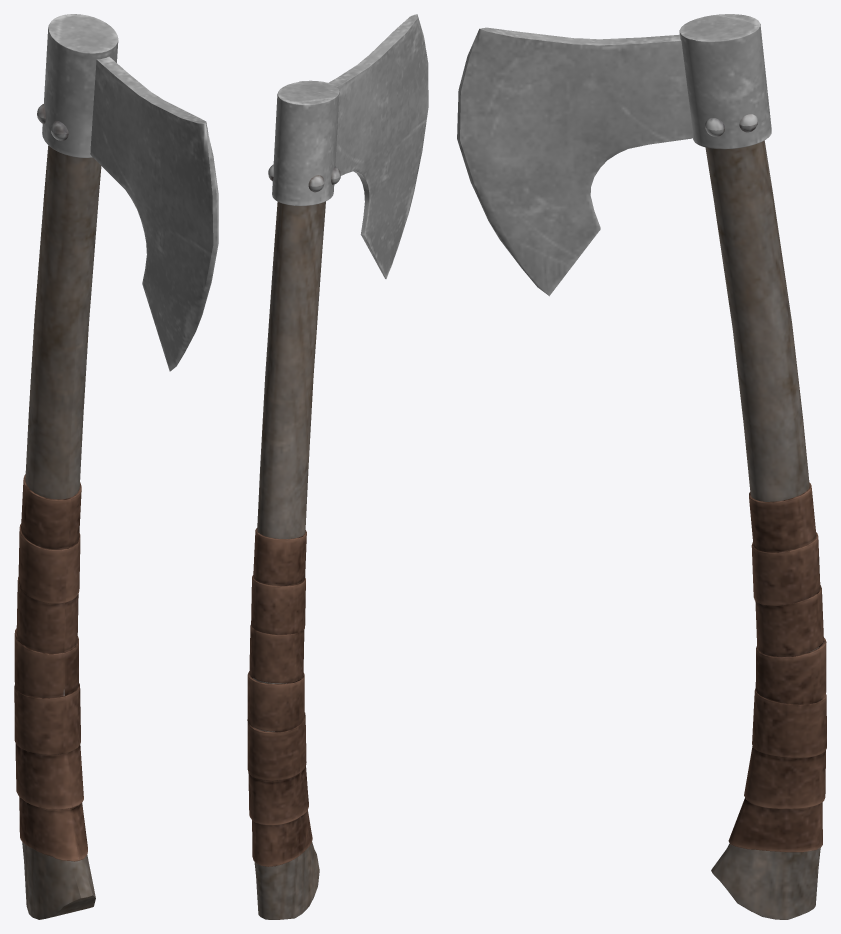
The model's file is SM_Axe_01.fbx.
The picture shows the model from 3 angles, left to right: view 1: azimuth 30°, elevation 25°; view 2: azimuth 150°, elevation 25°; view 3: azimuth 270°, elevation 25°; orthographic projection. The views are drawn at different scales.
Visible parts, largest first — view 1: SM_Axe_01_LOD0; view 2: SM_Axe_01_LOD0; view 3: SM_Axe_01_LOD0.
Part boxes in pixels (<box>): SM_Axe_01_LOD0: <box>14,14,218,919</box>; SM_Axe_01_LOD0: <box>247,14,428,919</box>; SM_Axe_01_LOD0: <box>457,14,826,919</box>.
Bounding box in the file's own units: 4.35 × 21.58 × 57.06.
